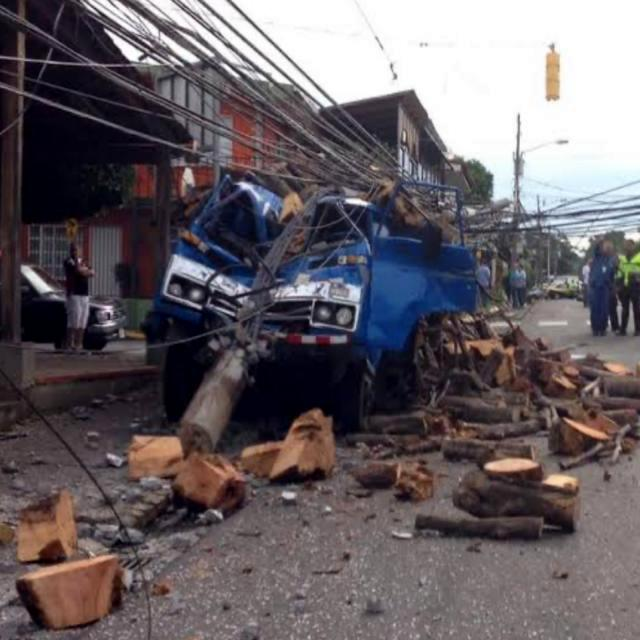Broken Pole: (177, 183, 362, 457)
